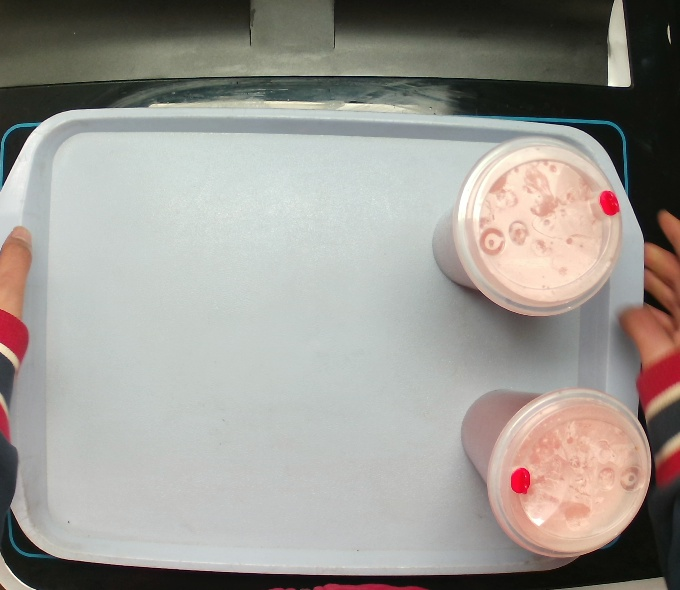wcq-XiGuaZhi: (431, 131, 624, 319), (458, 384, 654, 558)
